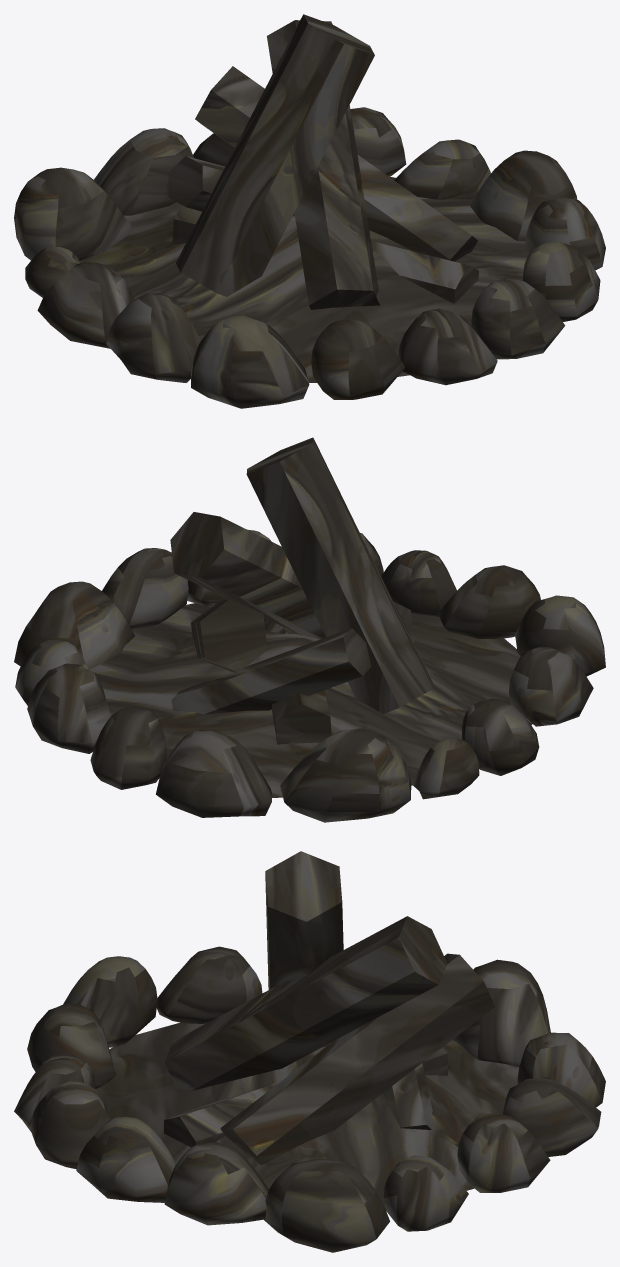
The model's file is Campfire.fbx.
3 views of the same model, one above another, from view 1: azimuth 30°, elevation 25°; view 2: azimuth 150°, elevation 25°; view 3: azimuth 270°, elevation 25° (orthographic). The views are drawn at different scales.
Visible parts, largest first — view 1: CampFire; view 2: CampFire; view 3: CampFire.
Part boxes in pixels (x1,y1,x2,y2): CampFire: (14,14,605,408); CampFire: (14,437,605,822); CampFire: (14,851,605,1252).
Bounding box in the file's own units: 1.61 × 0.8415 × 1.61.
1 material, 1 textured.
